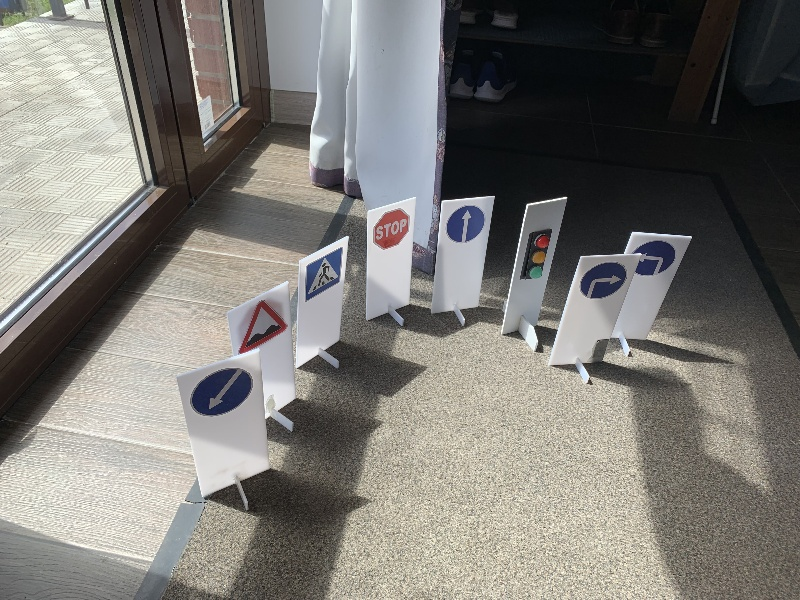Left: (633, 240, 677, 279)
Nerov: (236, 305, 288, 351)
Right: (581, 261, 626, 300)
Stop: (372, 207, 409, 246)
forw: (445, 206, 485, 244)
pesh: (306, 249, 342, 296)
prep: (188, 367, 253, 416)
